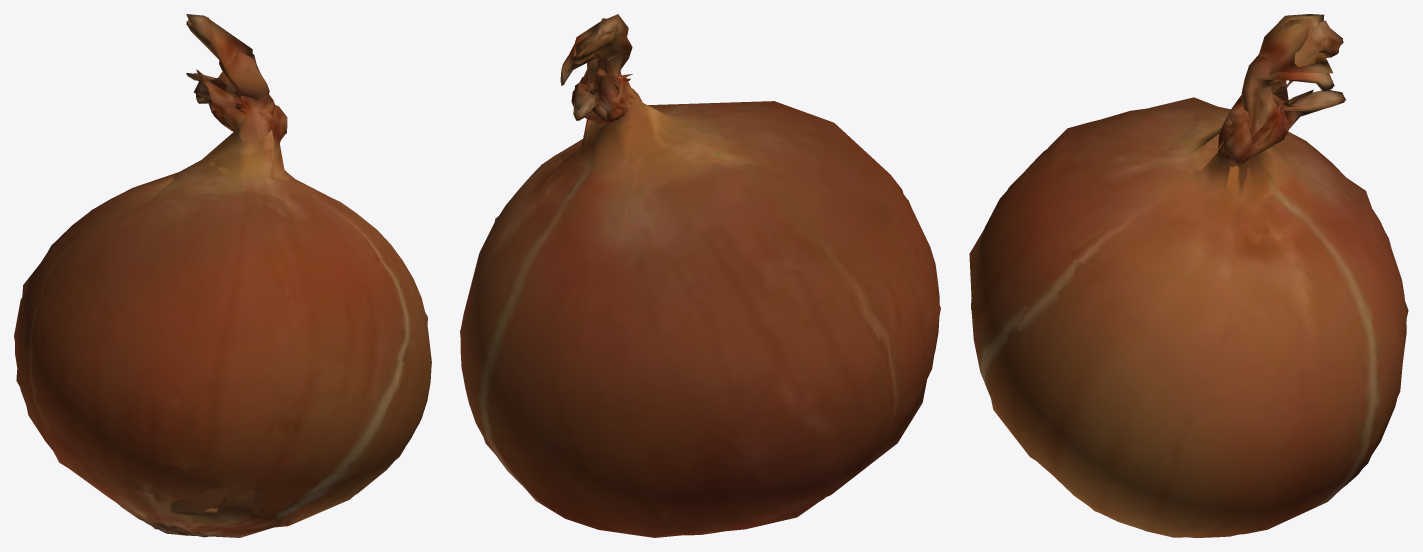
The model's file is imp-onions.glb.
3 renders of one model, left to right at view 1: azimuth 30°, elevation 25°; view 2: azimuth 150°, elevation 25°; view 3: azimuth 270°, elevation 25°, orthographic. The views are drawn at different scales.
Visible parts, largest first — view 1: yellow_onion (×3); view 2: yellow_onion (×3); view 3: yellow_onion (×3).
Part boxes in pixels (<box>): yellow_onion (×3): <box>14,14,431,537</box>; yellow_onion (×3): <box>460,14,940,537</box>; yellow_onion (×3): <box>969,14,1408,537</box>.
Size of the model in its own units: 0.0671 by 0.08 by 0.0641.
Materials: 1 (1 with a texture image).
